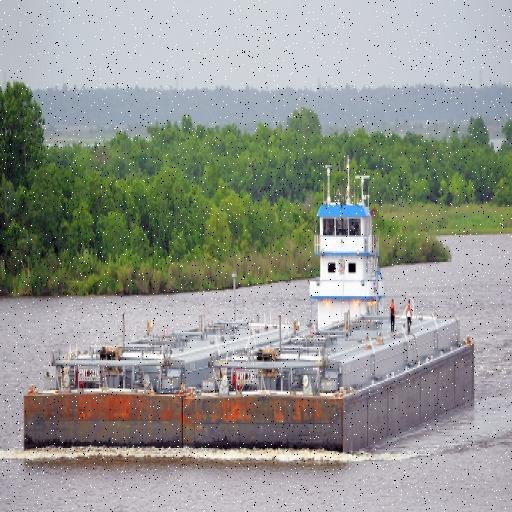tugboat: (290, 150, 409, 416)
